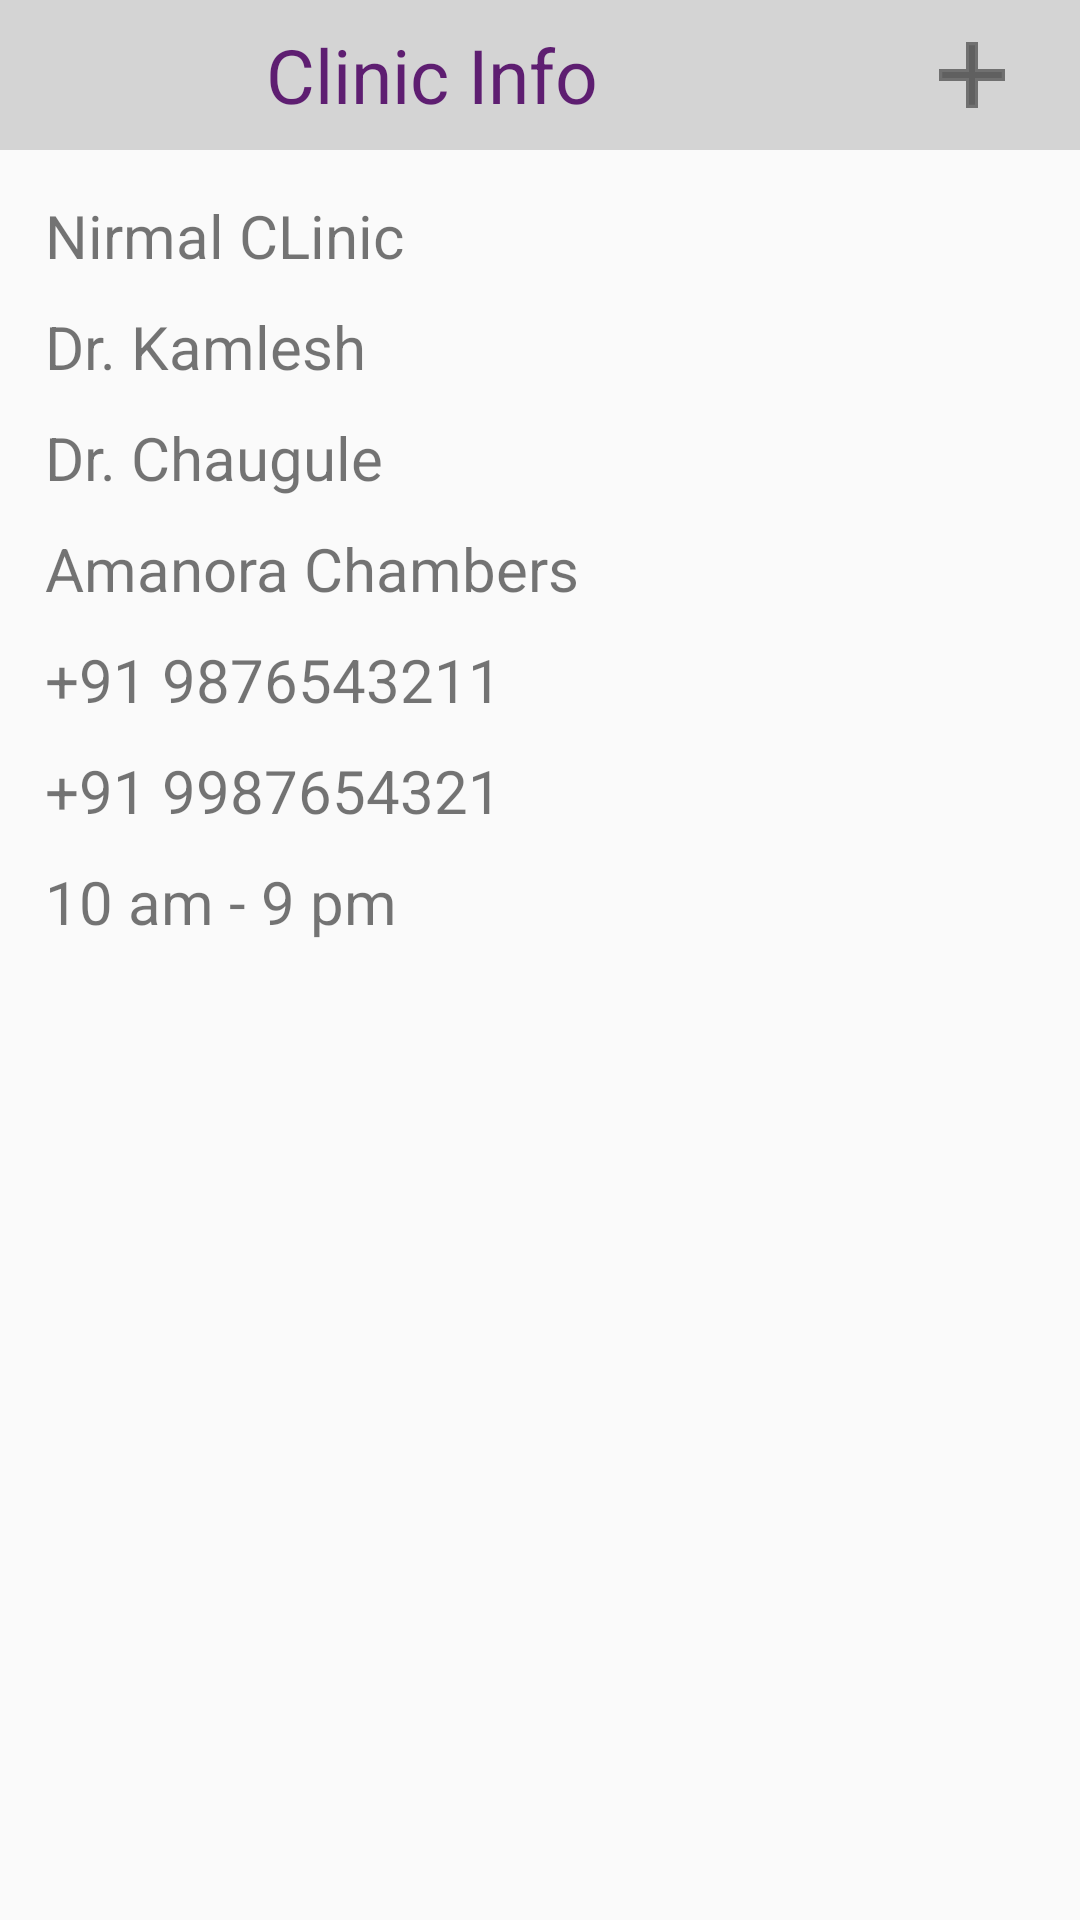

Named icons in this screenshot (1080*1920) and their centers, (x=x, y=y):
add clinic: (x=972, y=75)
